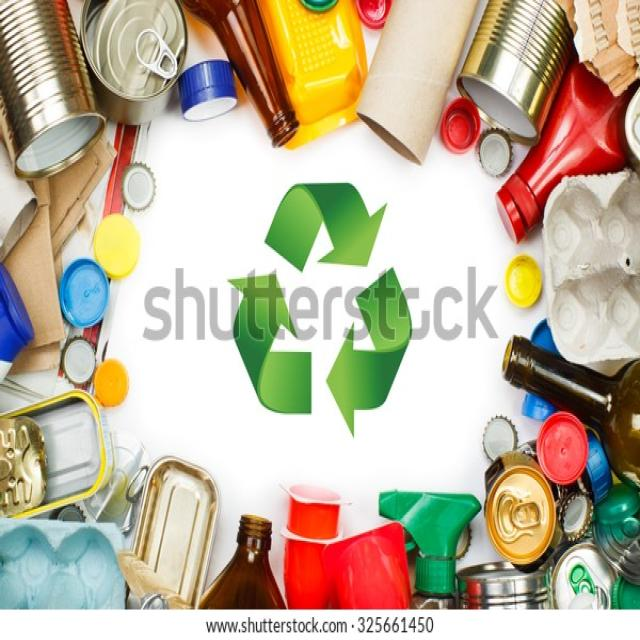glass: (234, 518, 273, 602)
metal: (498, 466, 618, 590), (12, 20, 90, 157), (20, 399, 109, 503), (141, 471, 209, 596), (482, 11, 545, 111), (114, 10, 177, 106)
plastic: (305, 497, 442, 591)
